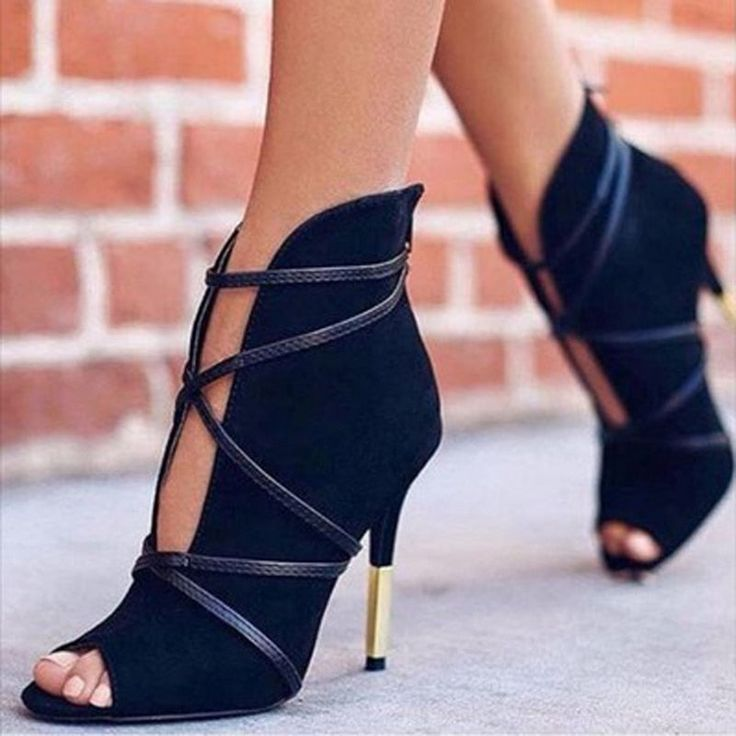gamuza: (22, 183, 443, 721)
